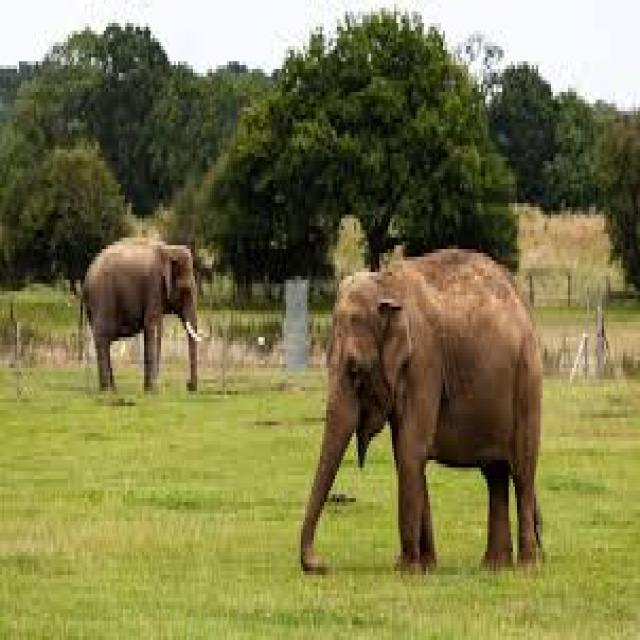Elephant: (299, 245, 542, 575), (76, 234, 204, 395)
